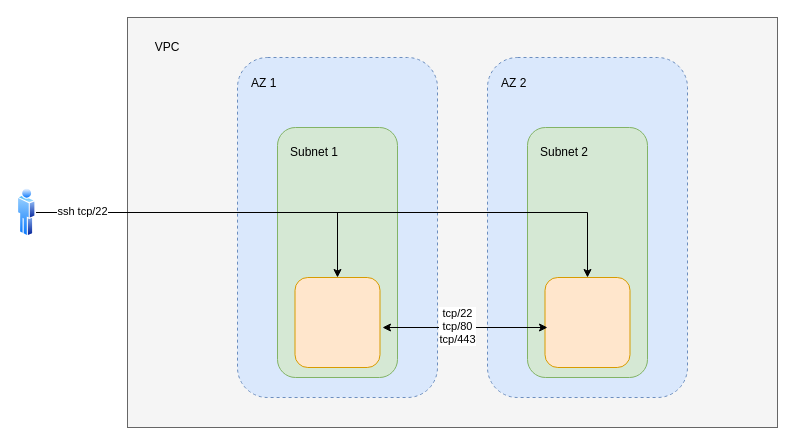
Image size: 795x445. Some labels were removed from this diagram. Each missing label, with the centre of its shape:
Server1: [337,322]
Server2: [587,322]
